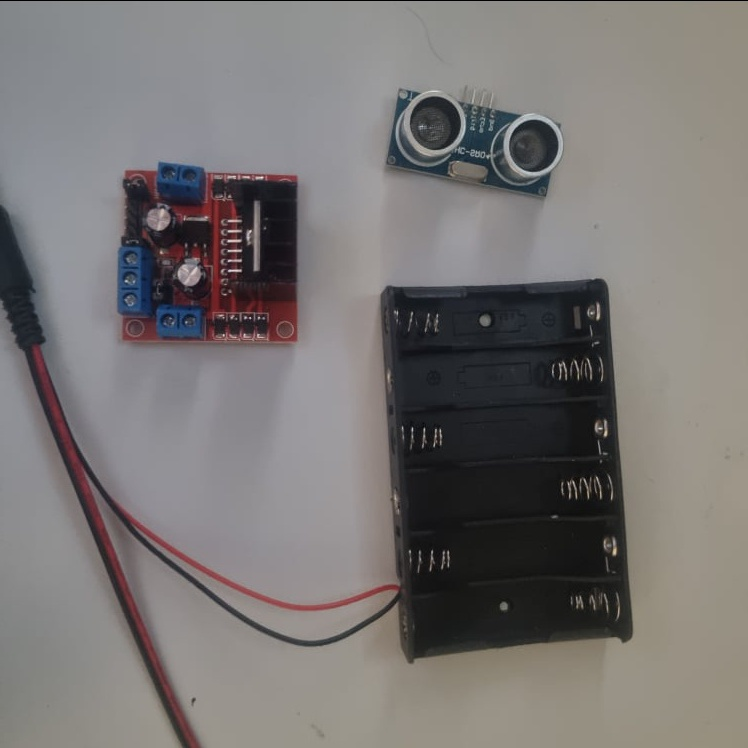BATTERY BOX: (382, 275, 637, 665)
MOTOR: (118, 161, 299, 344)
SENSOR: (384, 82, 569, 198)
